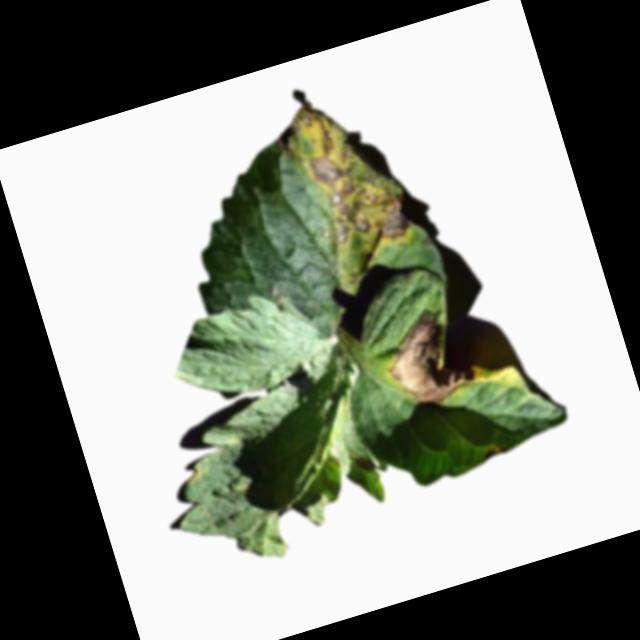Early_blight: (268, 82, 416, 267), (373, 298, 485, 413), (353, 450, 376, 474), (479, 443, 506, 463)
